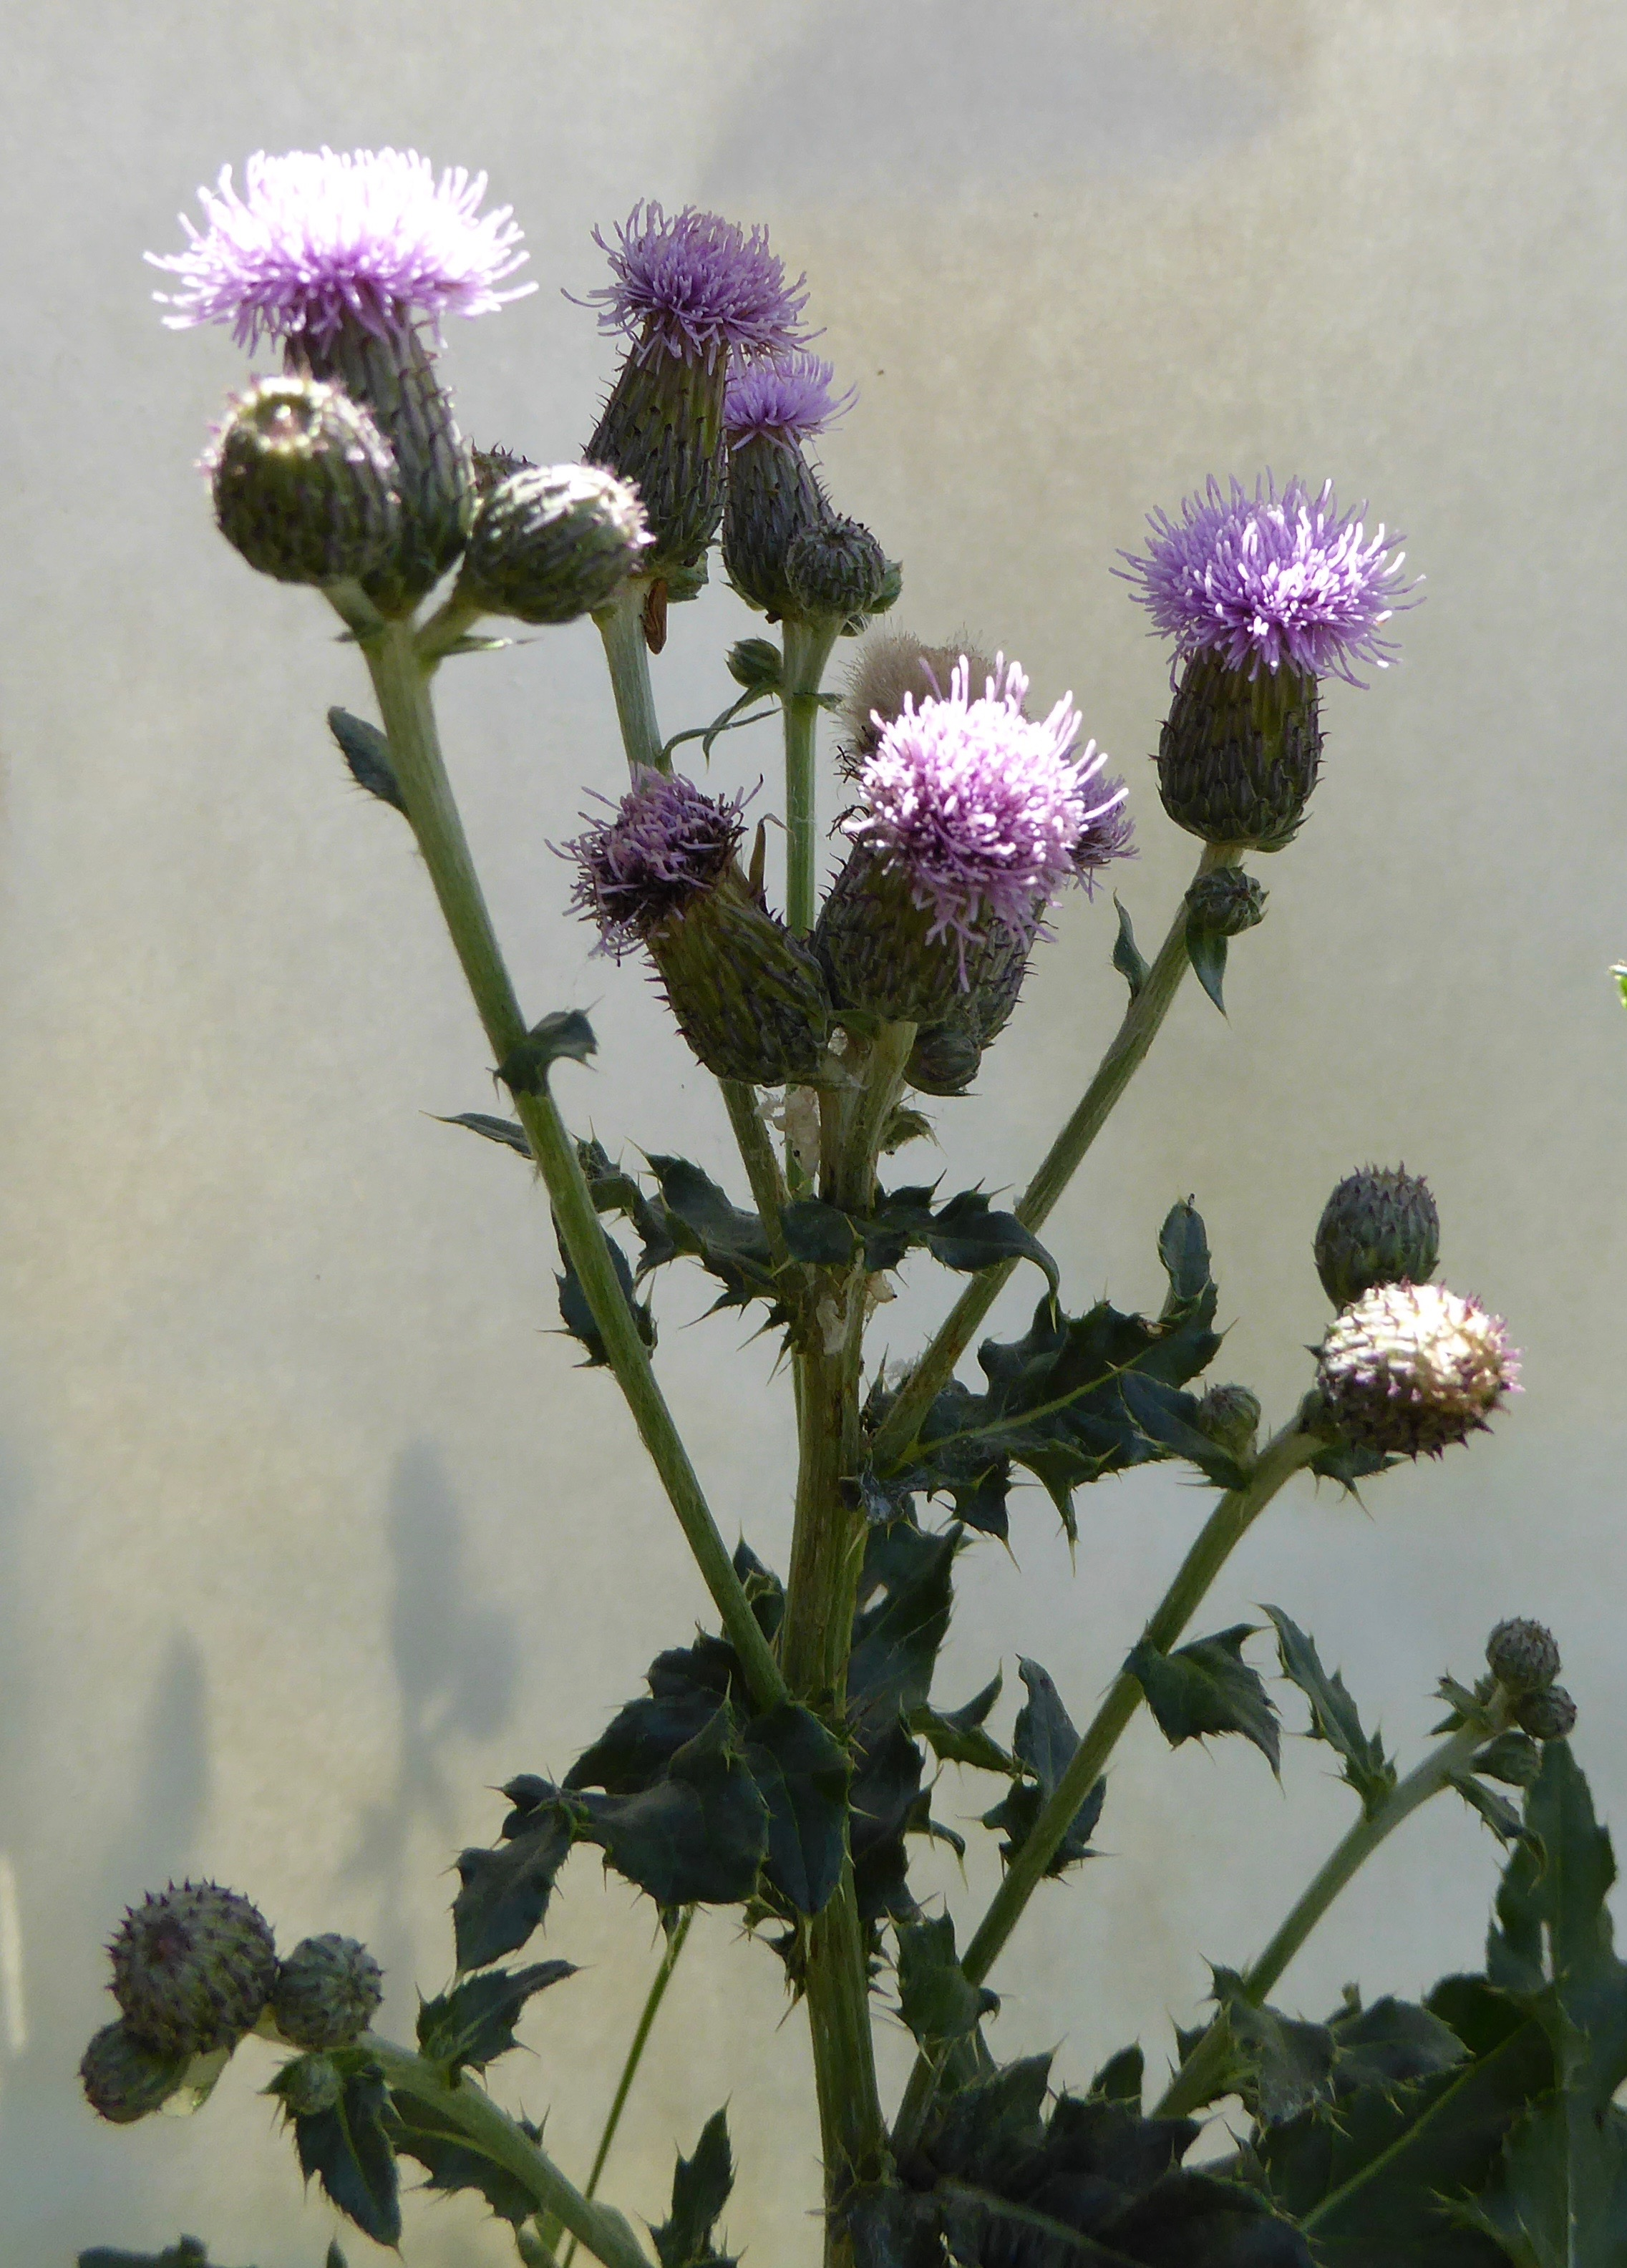thistle: (164, 136, 535, 586), (551, 771, 836, 1108), (1134, 481, 1386, 861), (840, 659, 1039, 1058), (569, 181, 755, 563), (718, 372, 850, 606)
